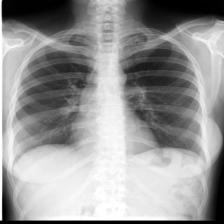tuberculosis: (10, 22, 208, 191)
